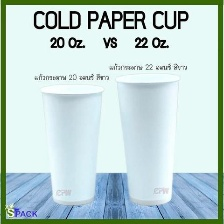paper_cup: (113, 69, 184, 209), (36, 80, 107, 209)
